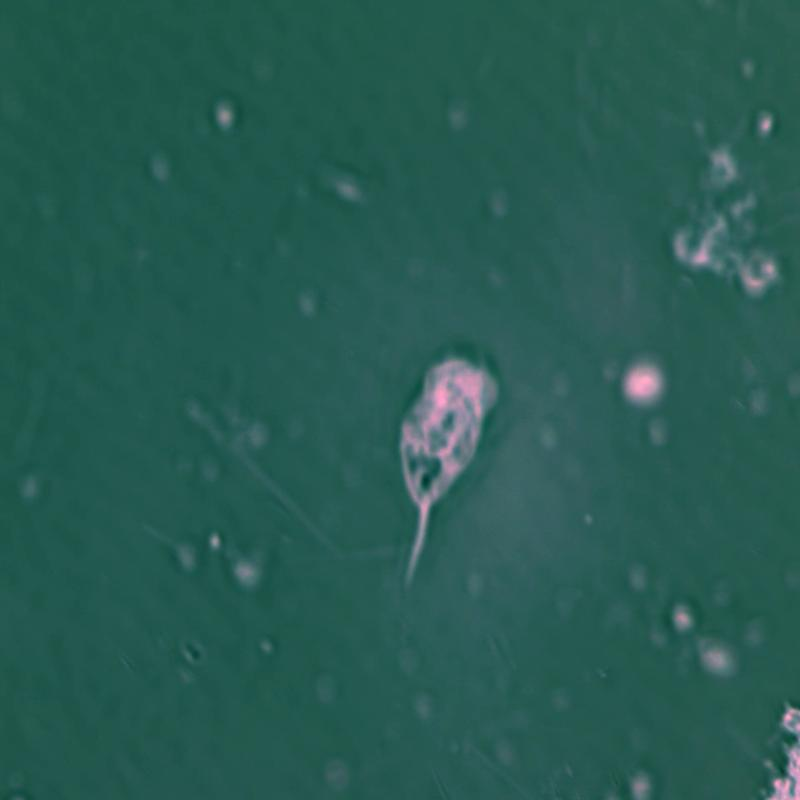depth:60: (371, 296, 547, 606)
